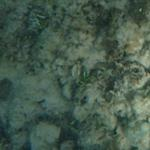dead: (1, 3, 149, 149)
